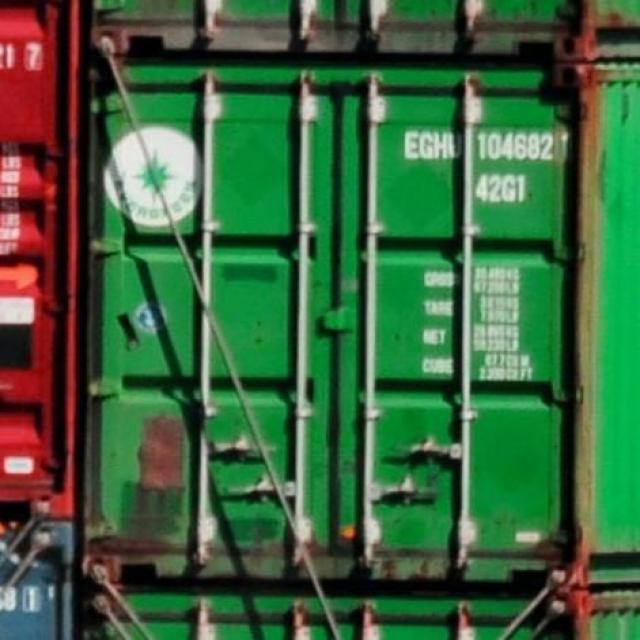ISO: (476, 175, 528, 203)
container_number: (408, 132, 567, 162)
